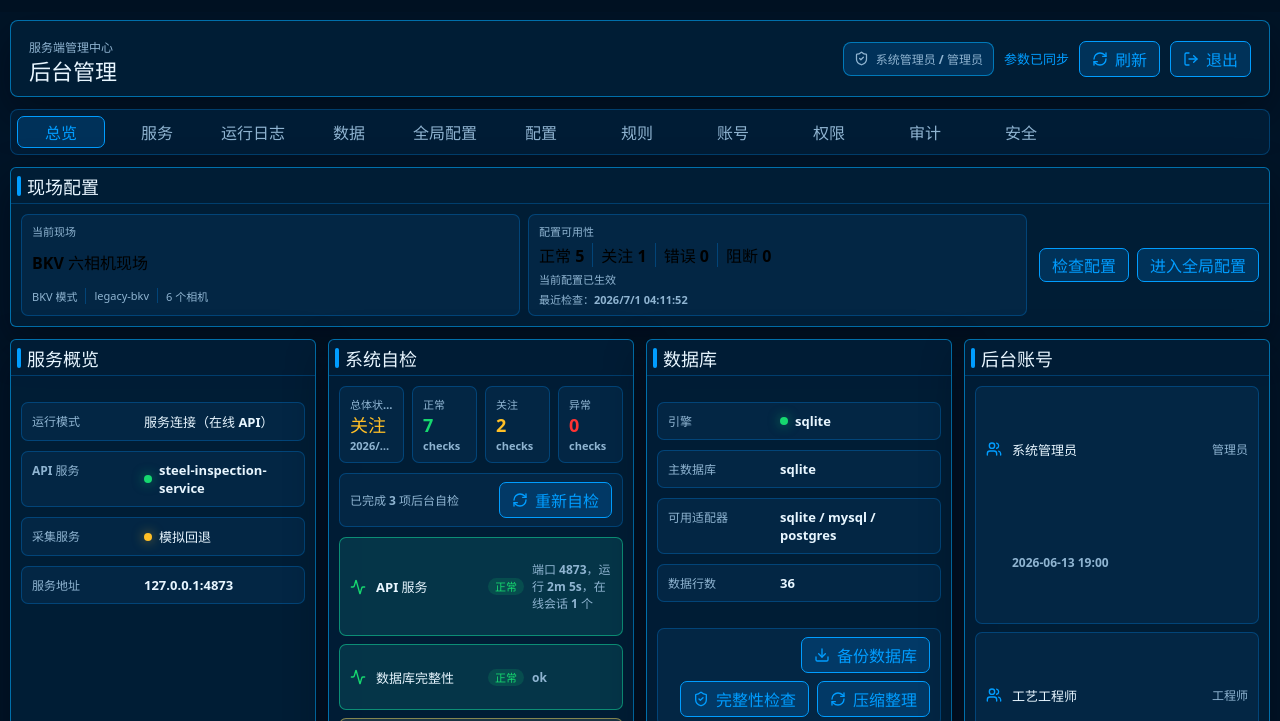
Test: ParameterManagementApp › saves external integration endpoints through the backend rule management tab
Expected: the text "系统管理员" is shown, [1012,440,1077,458]
Click the button "规则".
click(637, 132)  # box [593,116,681,148]
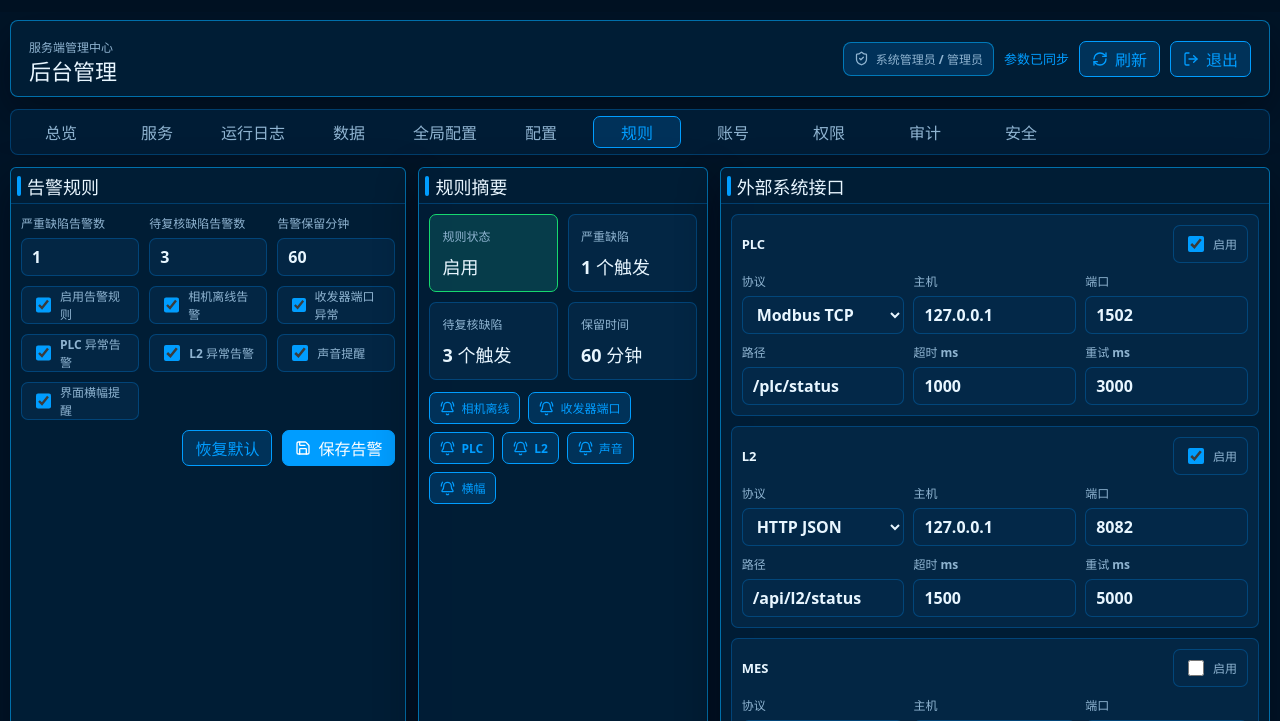
Now the heading "外部系统接口" is shown, box [737,174,845,198]
Replace the text in the field named "后台PLC接口主机" with "192.168.20.10" at (995, 315), box [913,296,1076,334]
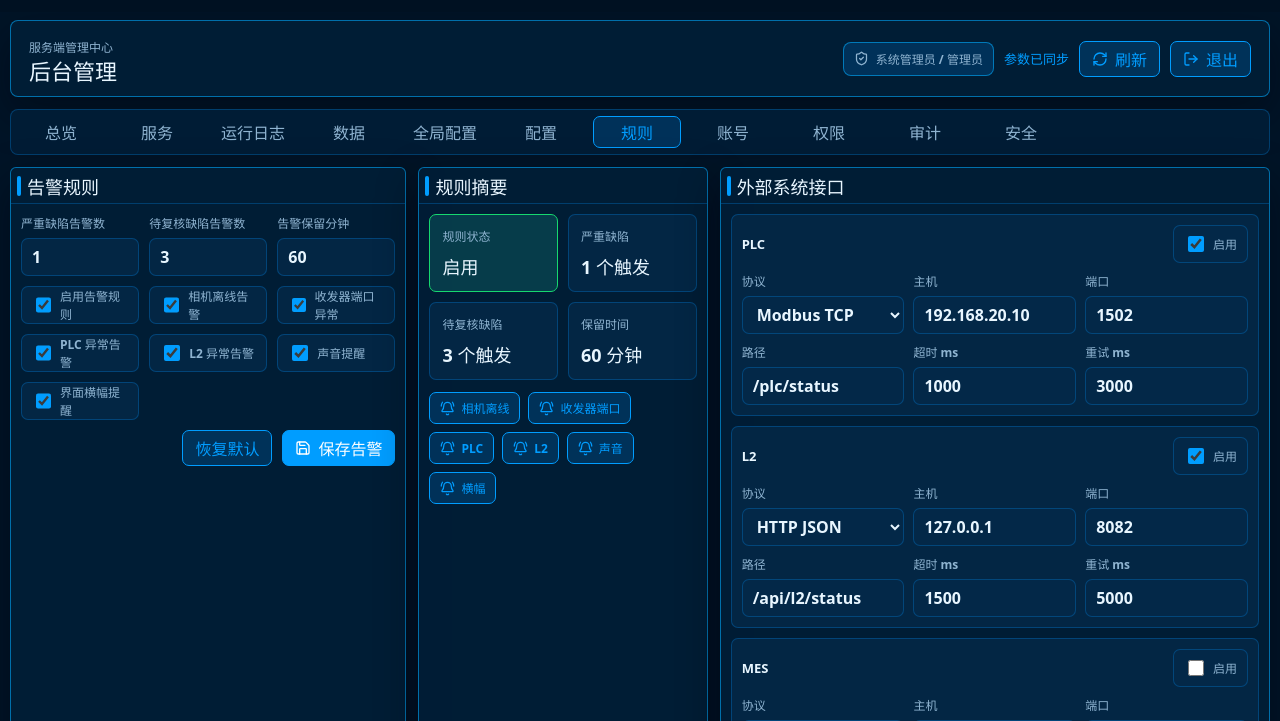
Replace the text in the number field named "后台PLC接口端口" with "502" at (1167, 315), box [1085,296,1248,334]
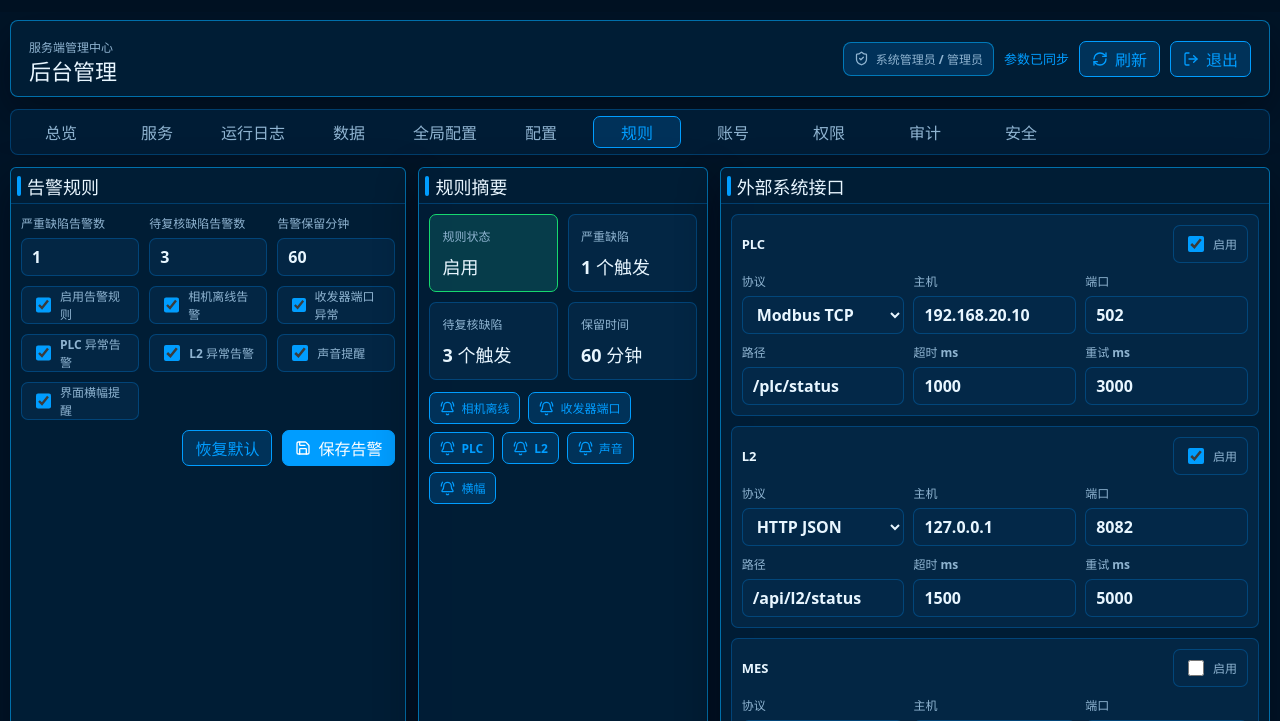
Replace the text in the field named "后台PLC接口路径" with "/plc/line-1/status" at (823, 386), box [742,367,904,405]
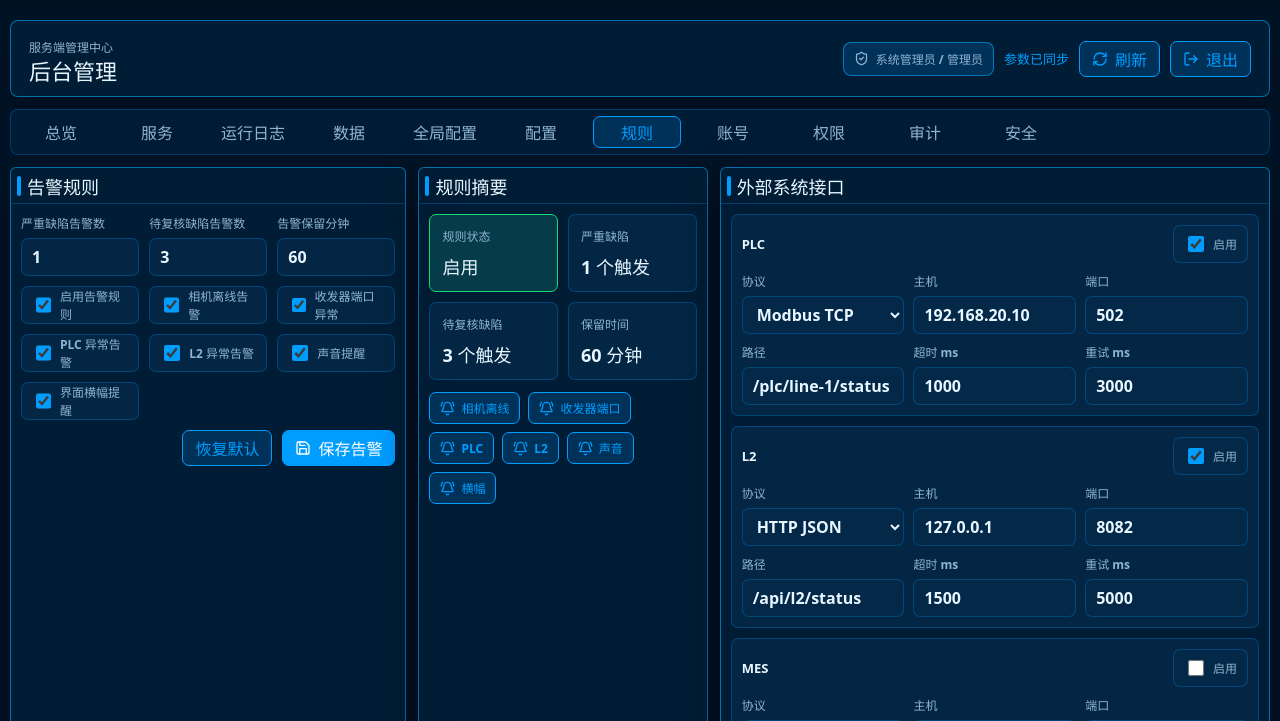
Replace the text in the number field named "后台PLC接口超时" with "1800" at (995, 386), box [913,367,1076,405]
(page scrolled)
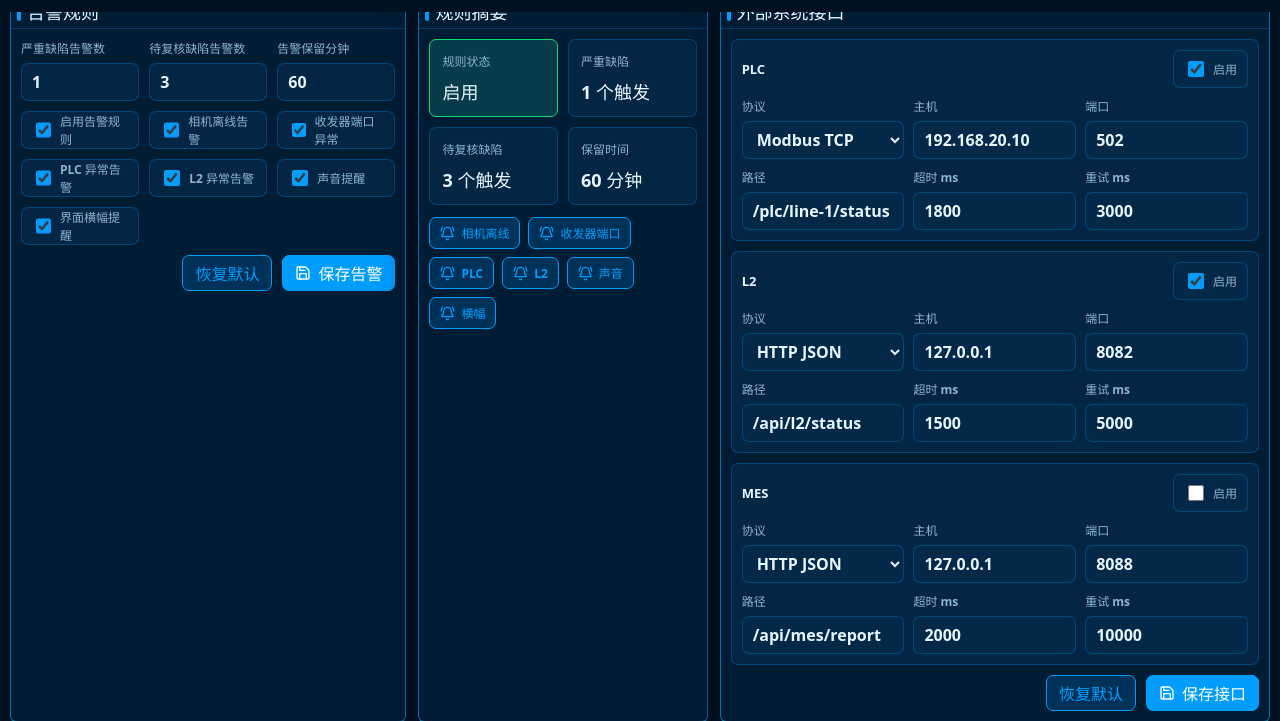
Click the button "保存接口".
click(1202, 693)  # box [1146,675,1259,711]
(page scrolled)
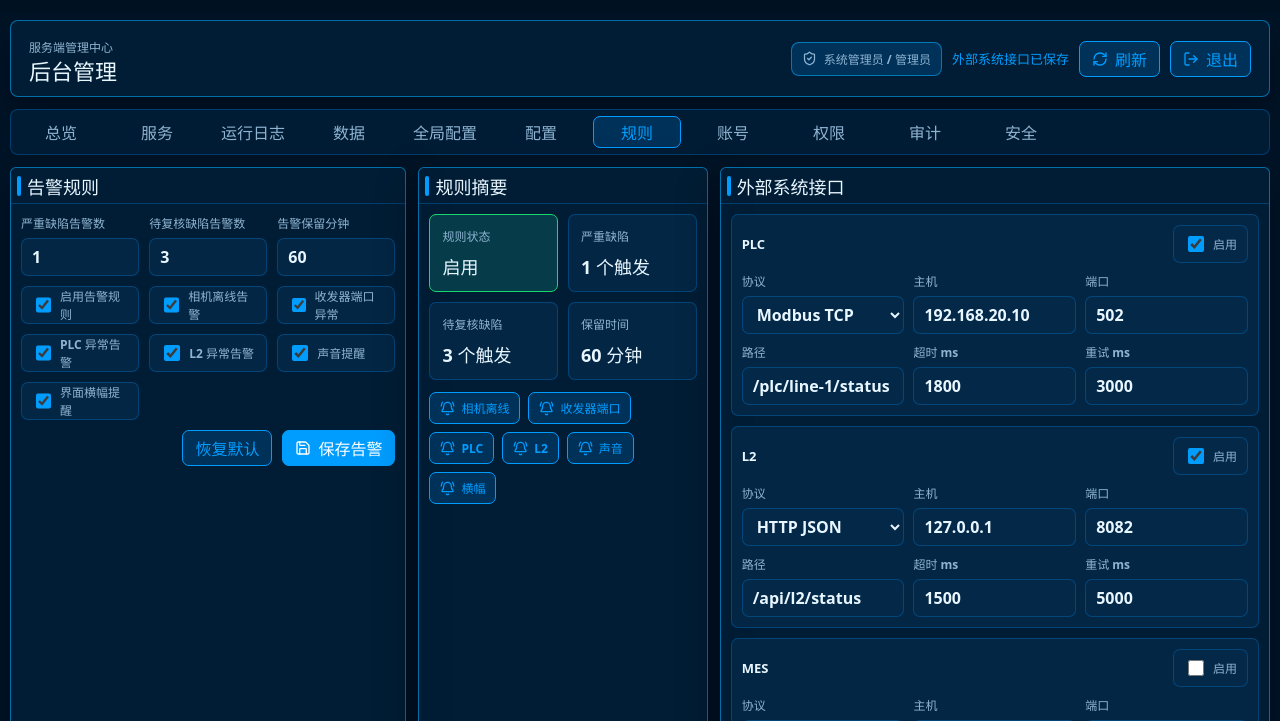
Now the text "外部系统接口已保存" is shown, box [952,49,1069,68]
